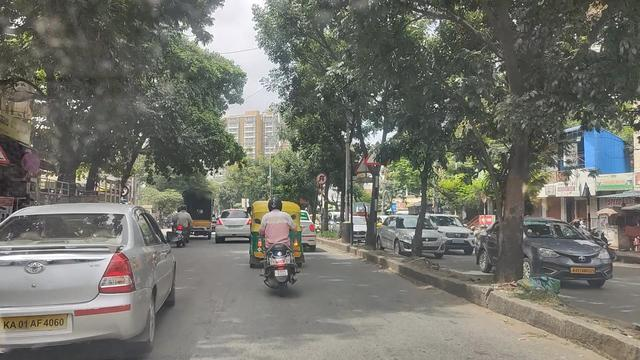LMV: (0, 207, 174, 359), (253, 207, 300, 285)
